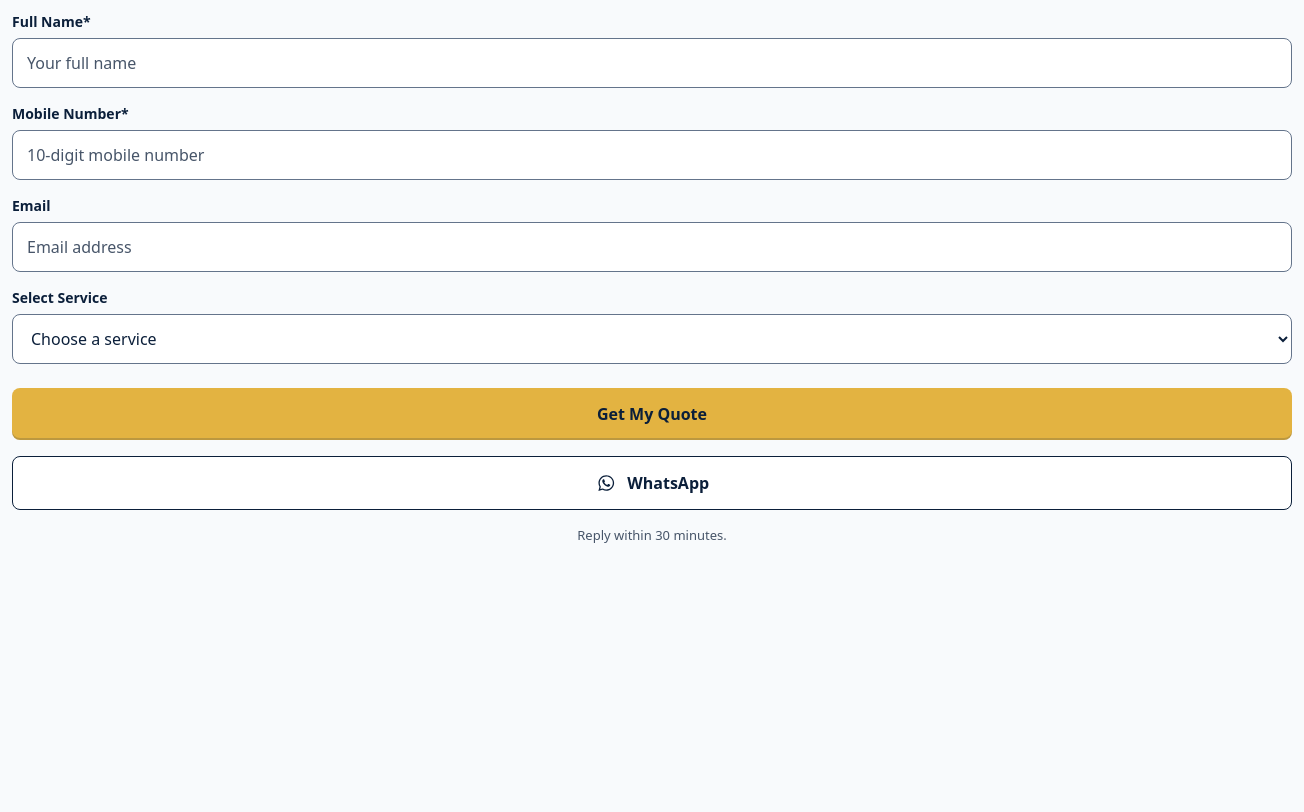
Test: EnquiryForm › opens WhatsApp with the details and shows the after-submit message
In the field labelled "Full Name*": (652, 63) [12,38,1292,88], type "Asha Verma"
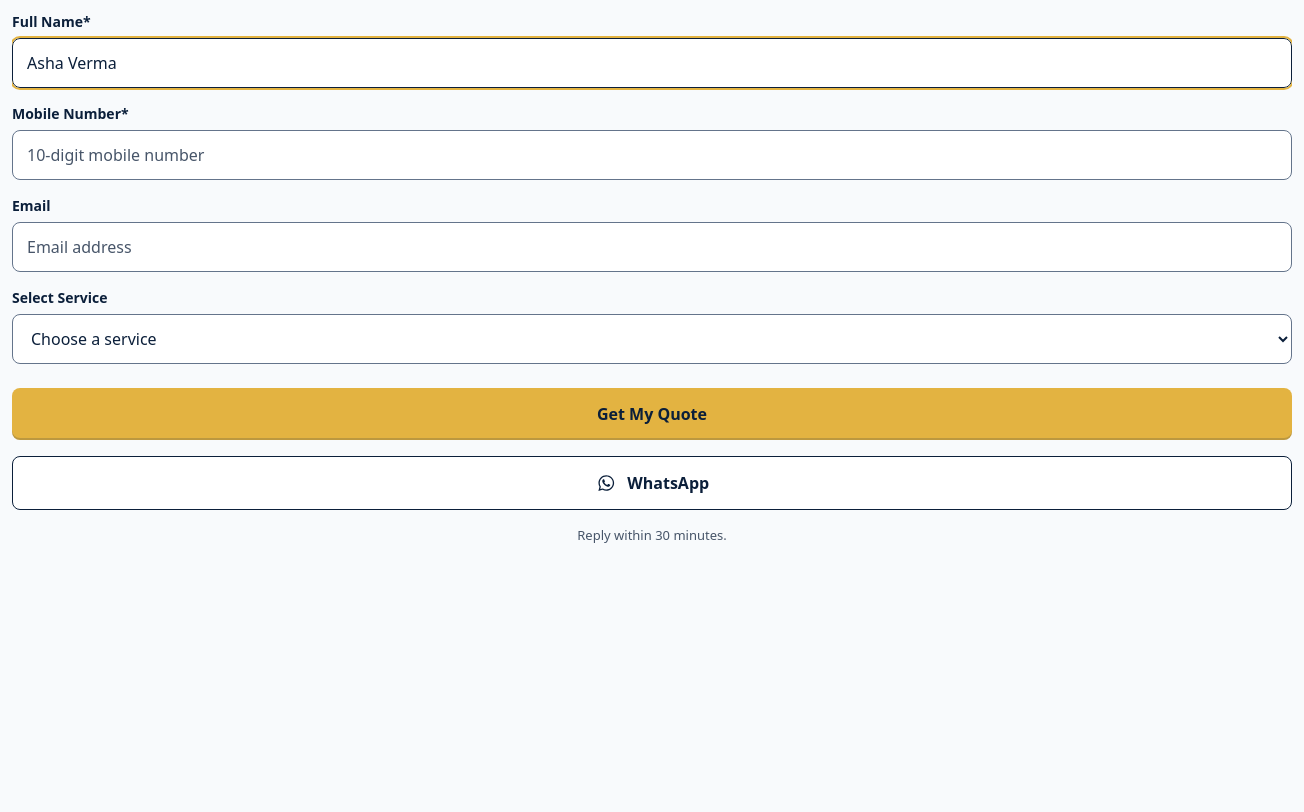
In the field labelled "Mobile Number*": (652, 155) [12,130,1292,180], type "9876543210"
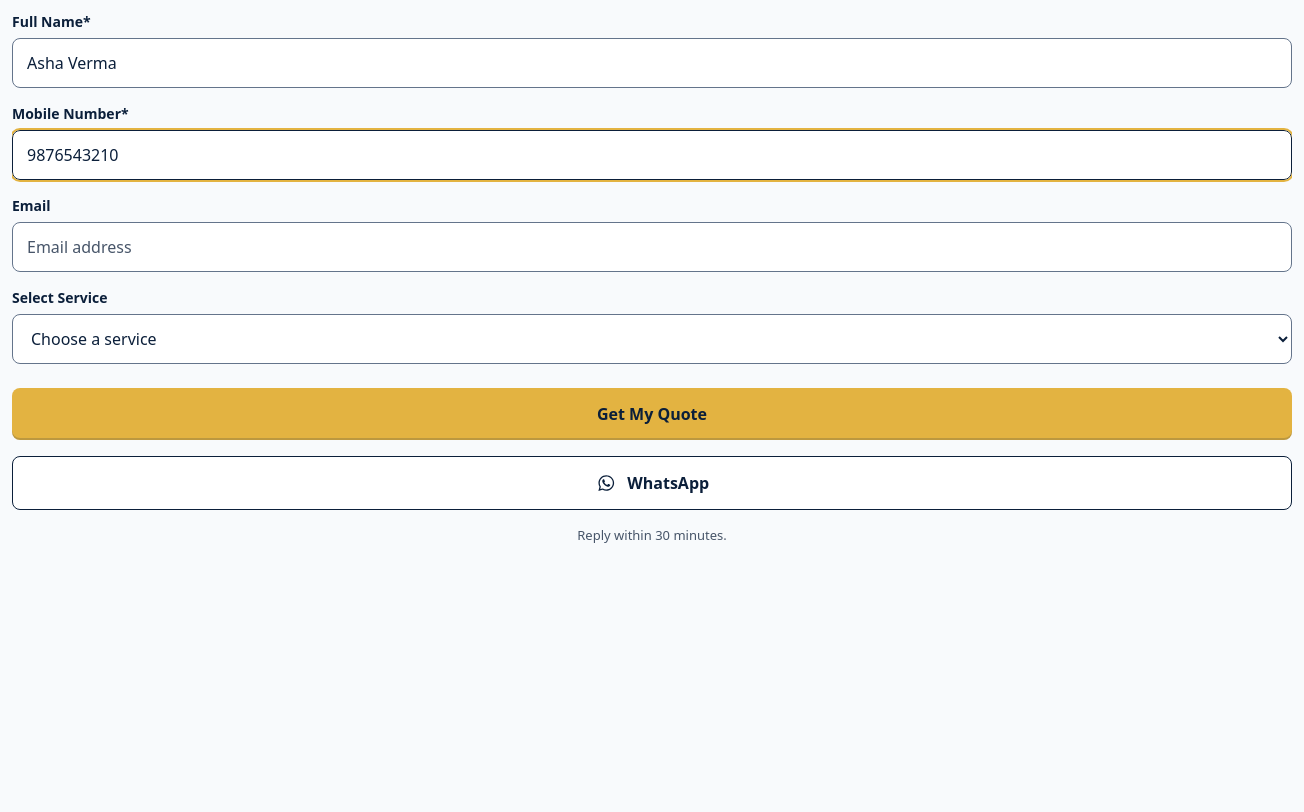
Select "GST Registration" in the dropdown labelled "Select Service": (652, 339) [12,314,1292,364]
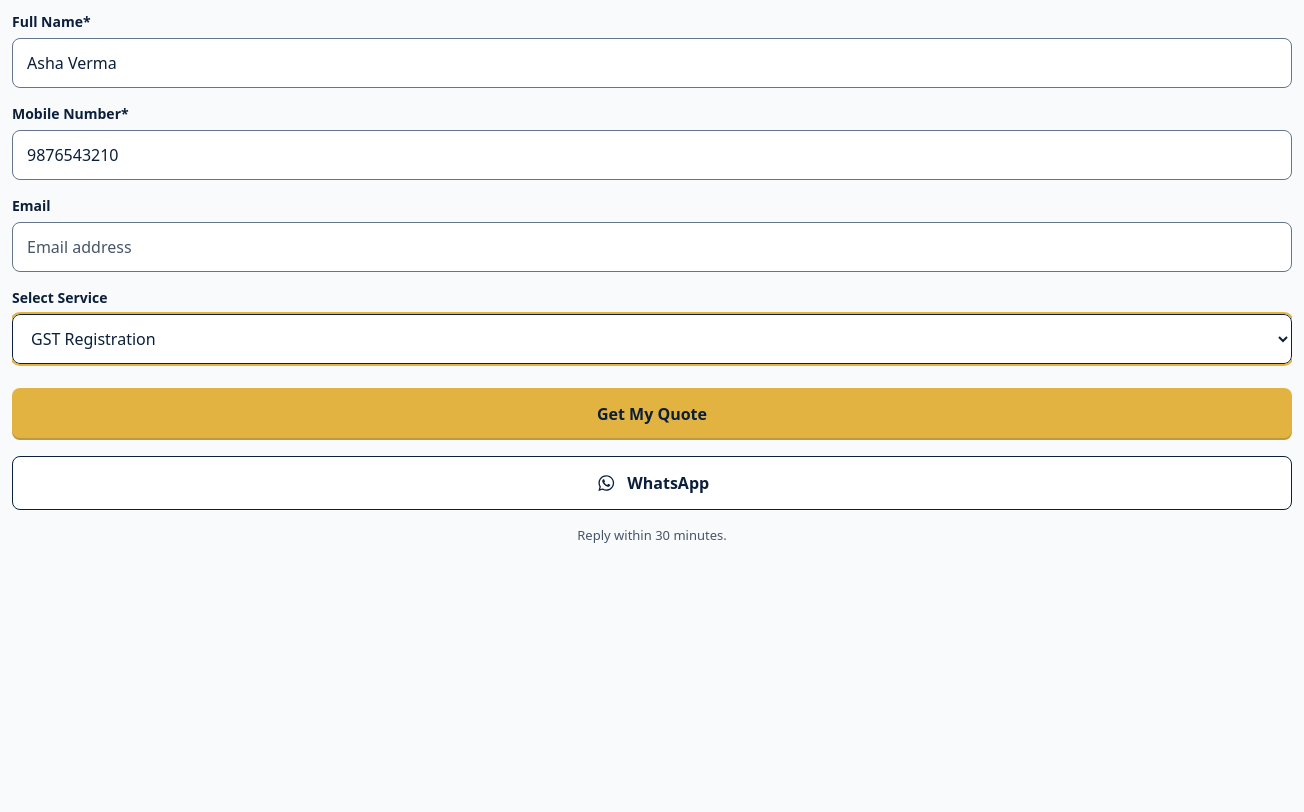
Click the button: (652, 414) [12,388,1292,440]
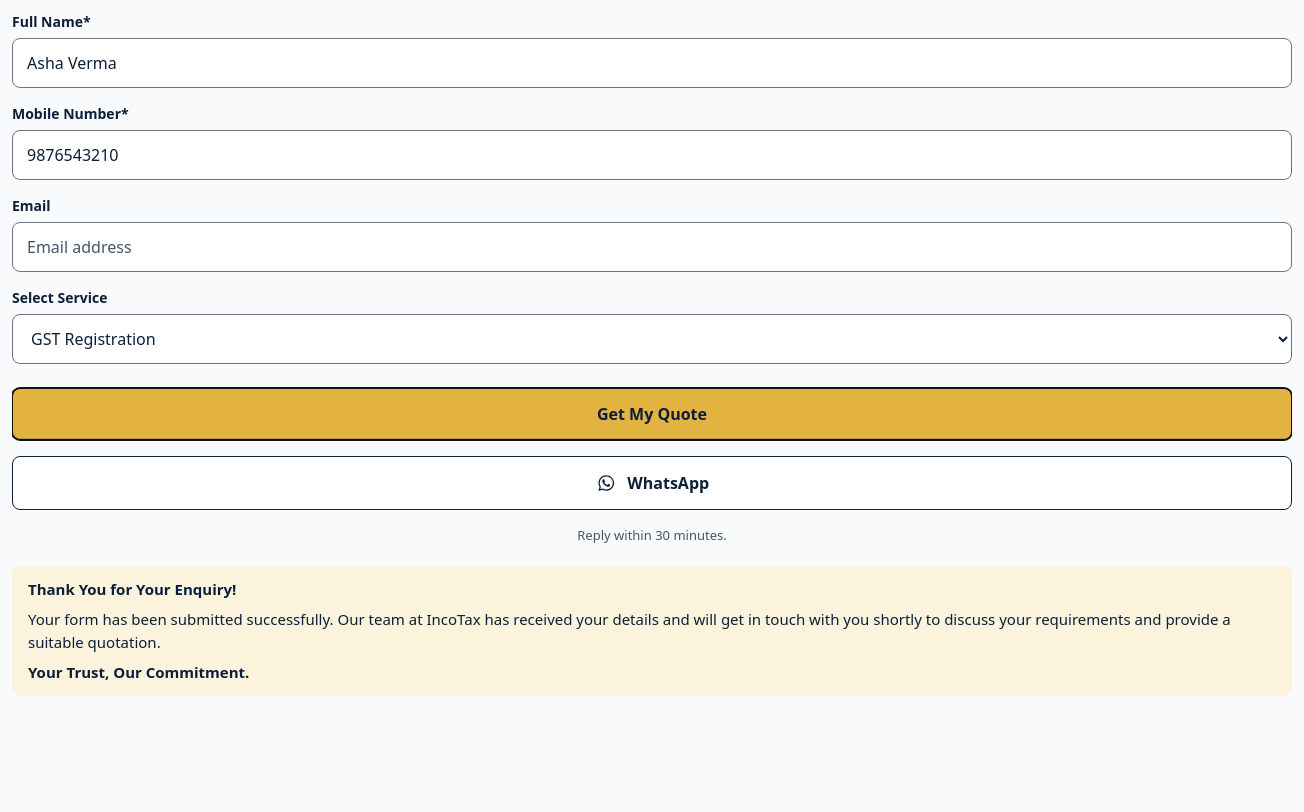
Check: the message is shown, box [12,566,1292,696]
